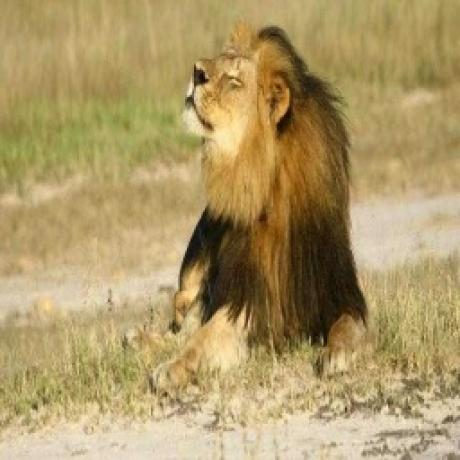Lion: (163, 13, 373, 382)
